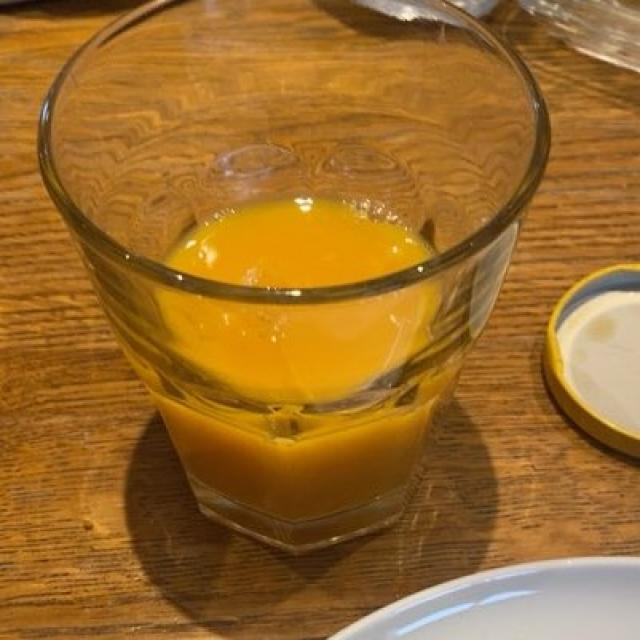juice-orange: (119, 201, 463, 532)
